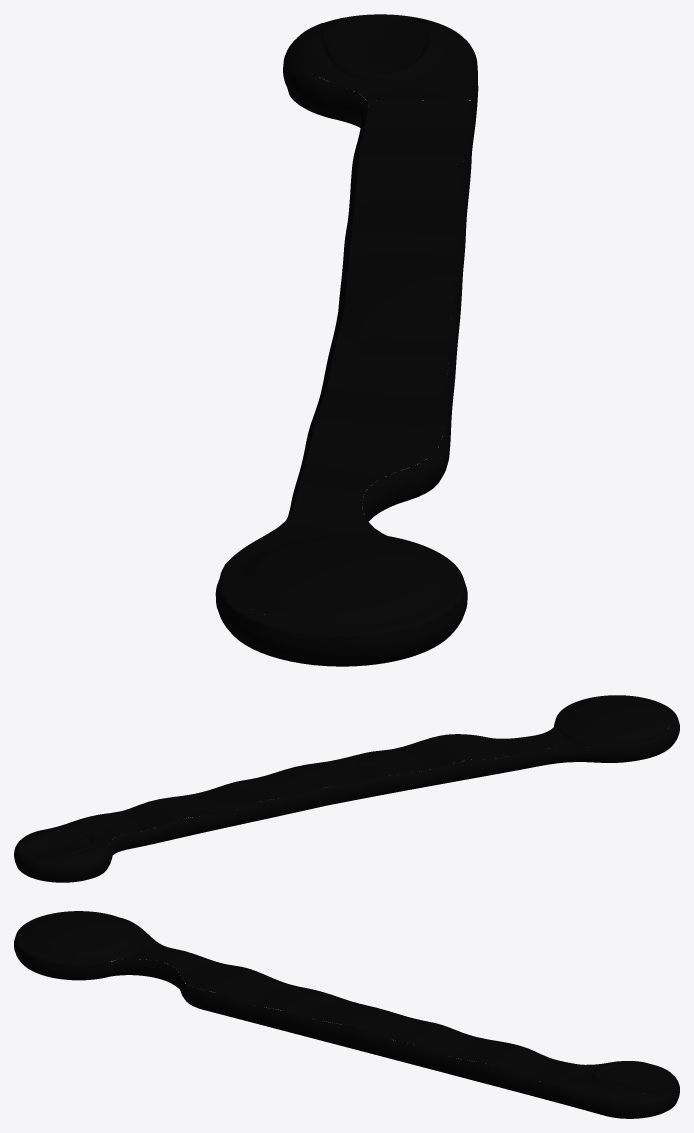
The picture shows the model from 3 angles, top to bottom: view 1: azimuth 30°, elevation 25°; view 2: azimuth 150°, elevation 25°; view 3: azimuth 270°, elevation 25°; orthographic projection. The views are drawn at different scales.
Parts seen in each view (by area): view 1: zegareczerk.002; view 2: zegareczerk.002; view 3: zegareczerk.002.
Boxes of the visible parts, <box> form: zegareczerk.002: <box>215,14,478,666</box>; zegareczerk.002: <box>14,695,679,882</box>; zegareczerk.002: <box>14,911,679,1118</box>.
Size of the model in its own units: 131 by 7.92 by 191.
Materials: 3 (1 with a texture image).
